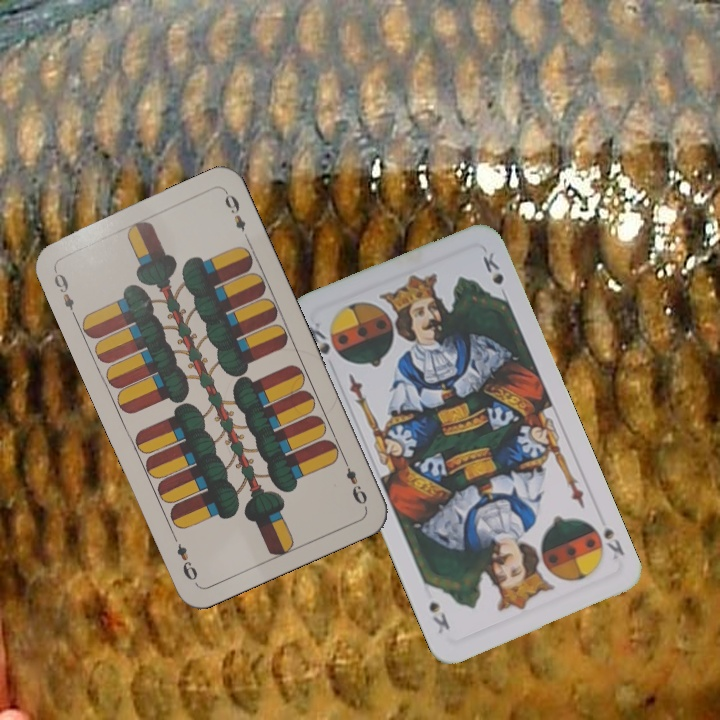E9: (49, 265, 80, 321), (339, 454, 370, 508)
SK: (304, 318, 333, 358), (599, 522, 627, 562)
